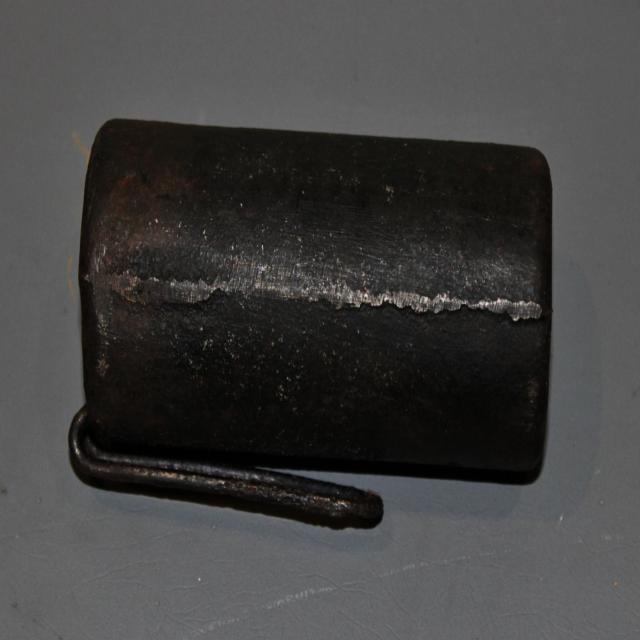grenade: (69, 117, 552, 529)
